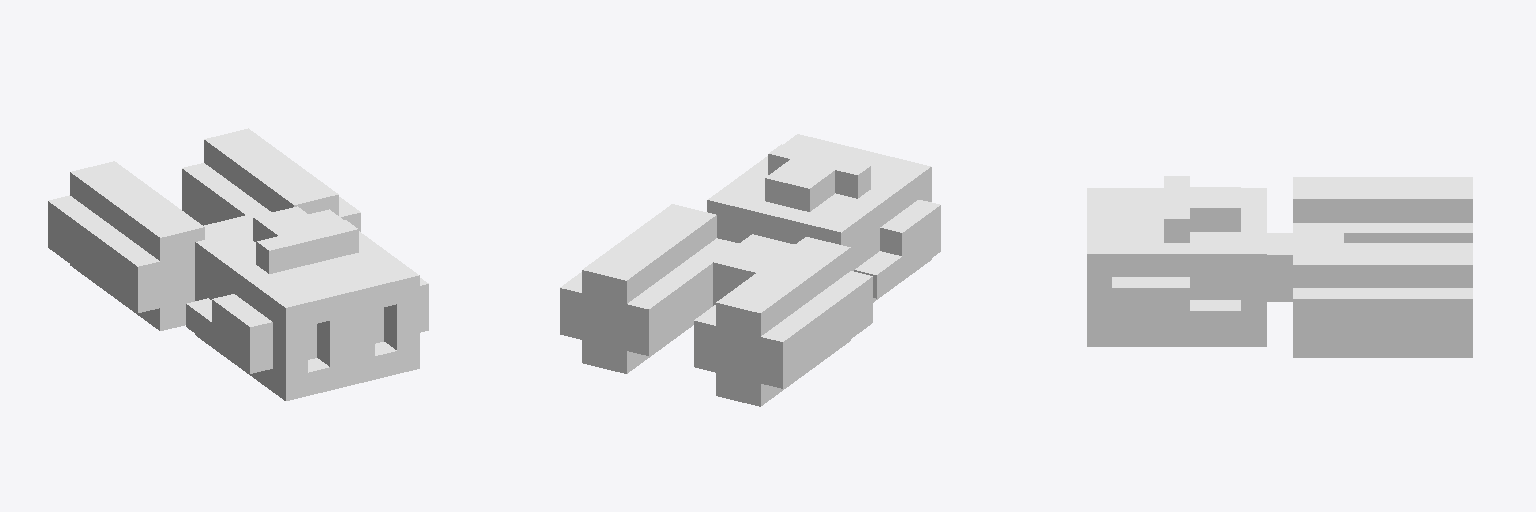
Rendered from Blue.obj.
The picture shows the model from 3 angles: view 1: azimuth 30°, elevation 25°; view 2: azimuth 150°, elevation 25°; view 3: azimuth 270°, elevation 25°; orthographic projection.
Parts seen in each view (by area): view 1: Blue; view 2: Blue; view 3: Blue.
Boxes of the visible parts, x1=… form: Blue: x1=48, y1=128, x2=428, y2=400; Blue: x1=560, y1=134, x2=940, y2=406; Blue: x1=1087, y1=176, x2=1472, y2=357.
Size of the model in its own units: 10 by 5 by 15.